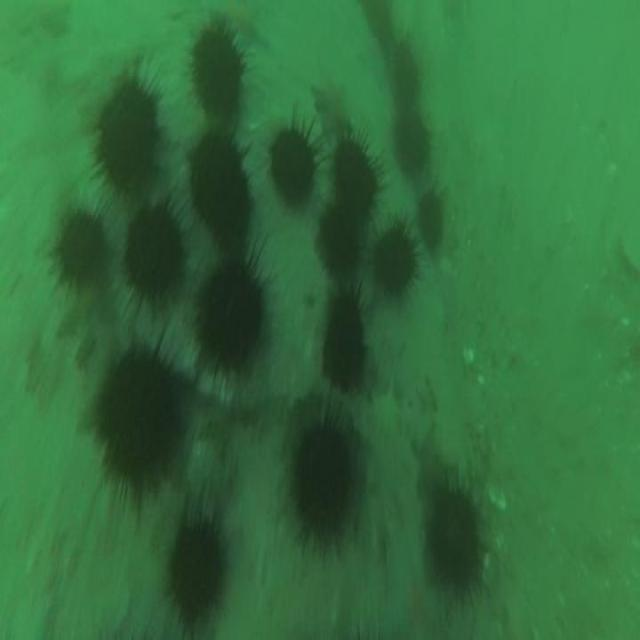echinus: (82, 314, 195, 518), (273, 379, 365, 558), (78, 51, 172, 218), (187, 242, 273, 400), (415, 458, 496, 624), (178, 114, 268, 256), (111, 179, 191, 335), (156, 477, 236, 632), (180, 14, 260, 128), (44, 191, 120, 308), (316, 283, 375, 406), (366, 204, 428, 314), (306, 191, 372, 289), (271, 111, 327, 221), (324, 121, 388, 212), (389, 109, 441, 187), (383, 33, 429, 114), (416, 175, 452, 261), (358, 2, 407, 60)
